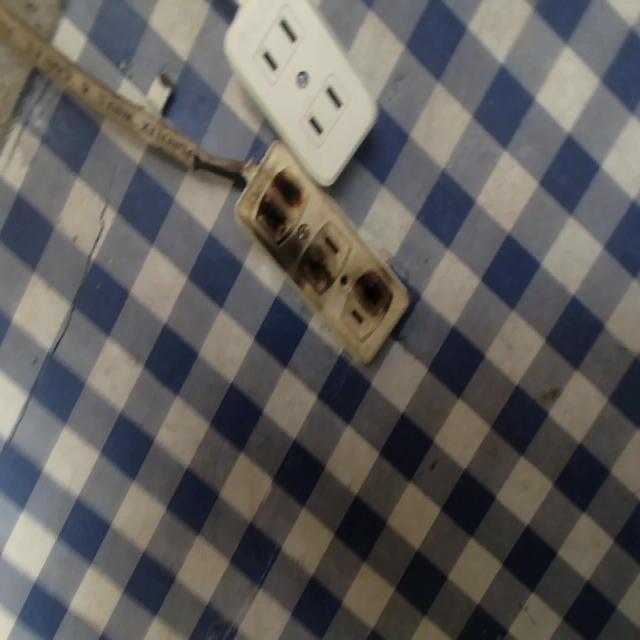-: (251, 164, 308, 245), (351, 263, 395, 325), (290, 248, 328, 303)
